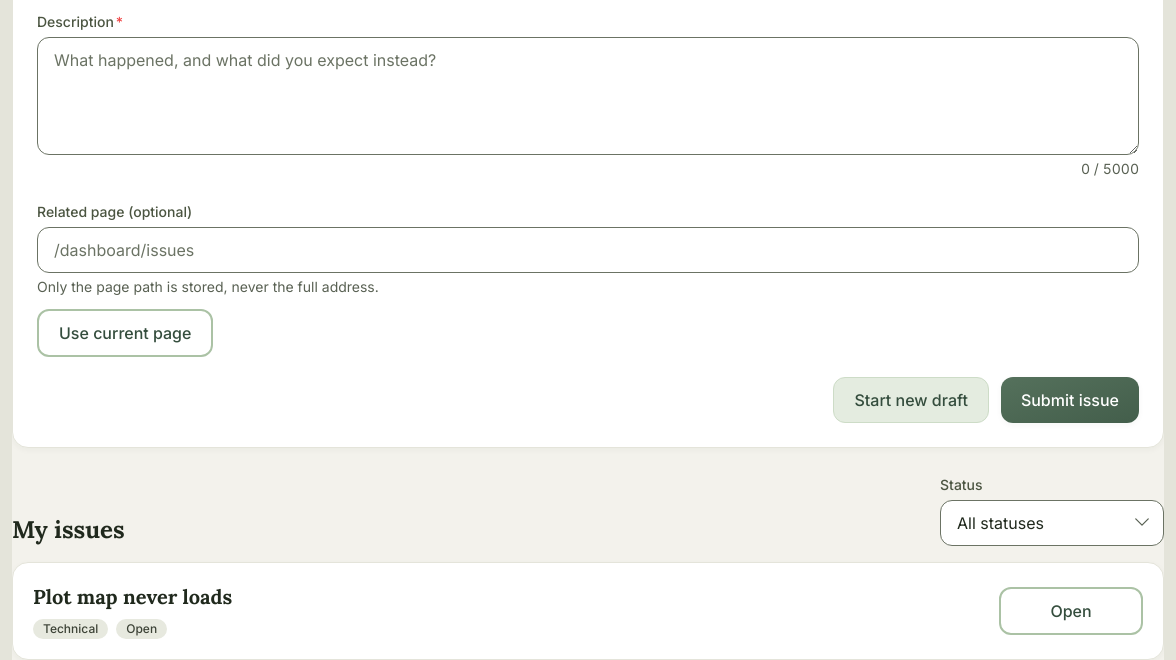
Test: ReportIssuePage.vue › opens own ticket detail without admin-only fields
This screenshot has width=1176, height=660.
(page scrolled)
Click the button with test id "issue-open-12" at (1071, 611), box [999,587,1143,635]
(page scrolled)
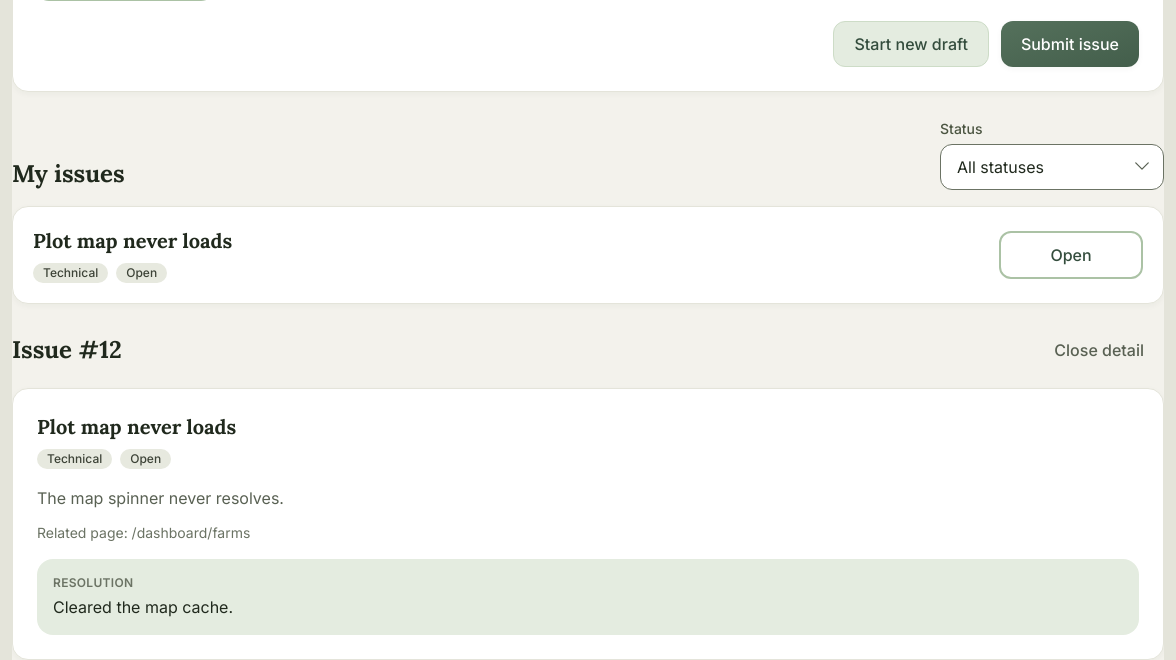
Expected: the element named "Issue detail" is shown, [12,328,1164,659]
Expected: the element named "Issue detail" shows "Cleared the map cache.", [53,597,233,617]
